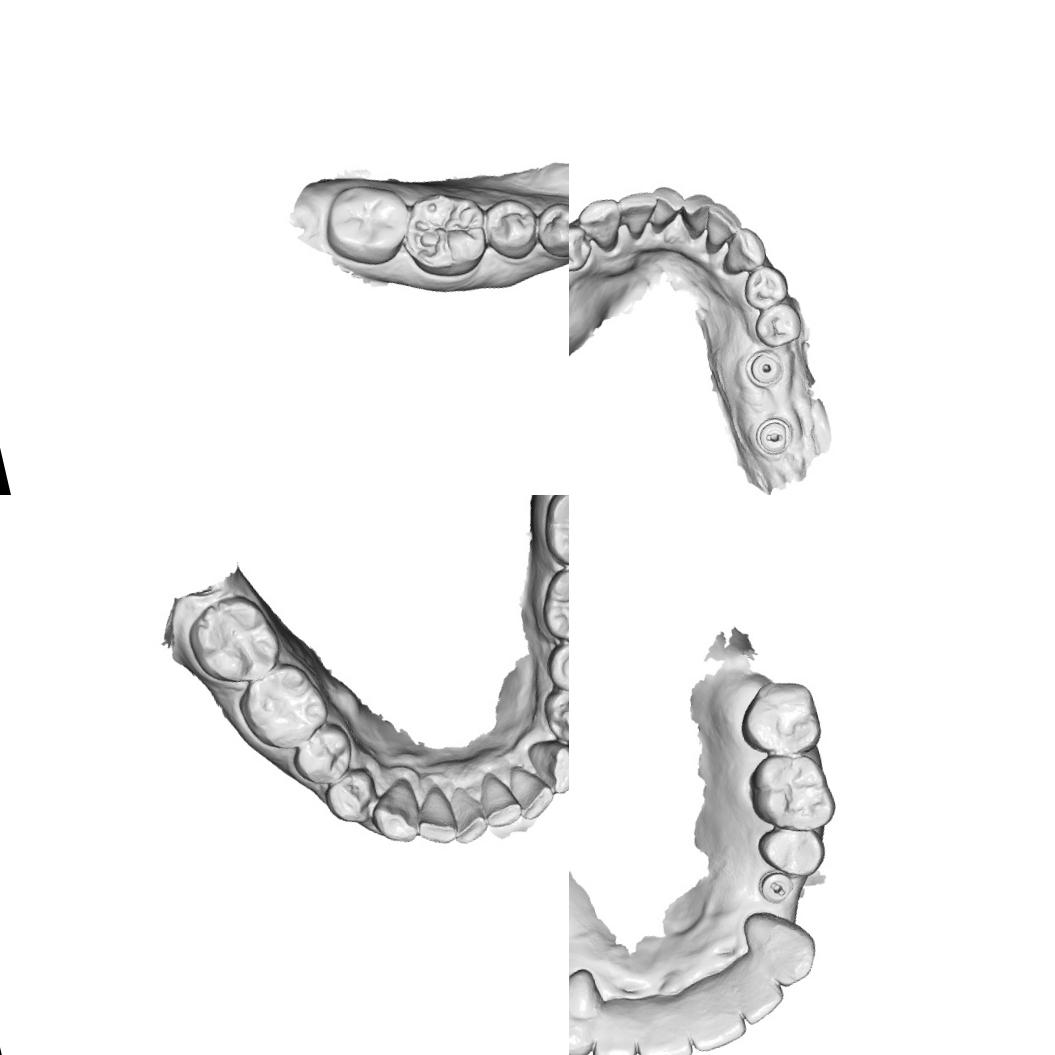canine: (741, 900, 825, 996), (366, 774, 425, 850), (569, 962, 613, 1055), (574, 192, 628, 256), (712, 220, 770, 278), (523, 732, 569, 801)
implant: (741, 346, 787, 392)
implant_minus: (751, 413, 799, 459), (754, 869, 799, 911)
incisor: (442, 778, 493, 850), (505, 758, 559, 826), (407, 783, 460, 852), (682, 1004, 752, 1055), (472, 766, 524, 833), (729, 978, 793, 1030), (613, 183, 666, 245), (696, 194, 750, 253), (582, 1013, 642, 1055), (676, 188, 723, 240), (642, 181, 690, 230), (631, 1021, 696, 1055)
molar: (180, 588, 288, 694), (231, 655, 337, 759), (312, 175, 416, 276), (738, 744, 842, 845), (396, 182, 495, 285), (729, 670, 828, 766), (531, 557, 569, 657), (533, 495, 569, 575)
premolar: (752, 818, 831, 886), (287, 718, 359, 791), (479, 191, 546, 266), (322, 766, 384, 832), (748, 298, 808, 352), (736, 260, 793, 313), (530, 196, 569, 264), (537, 684, 569, 748), (569, 217, 599, 278), (542, 637, 569, 698)
